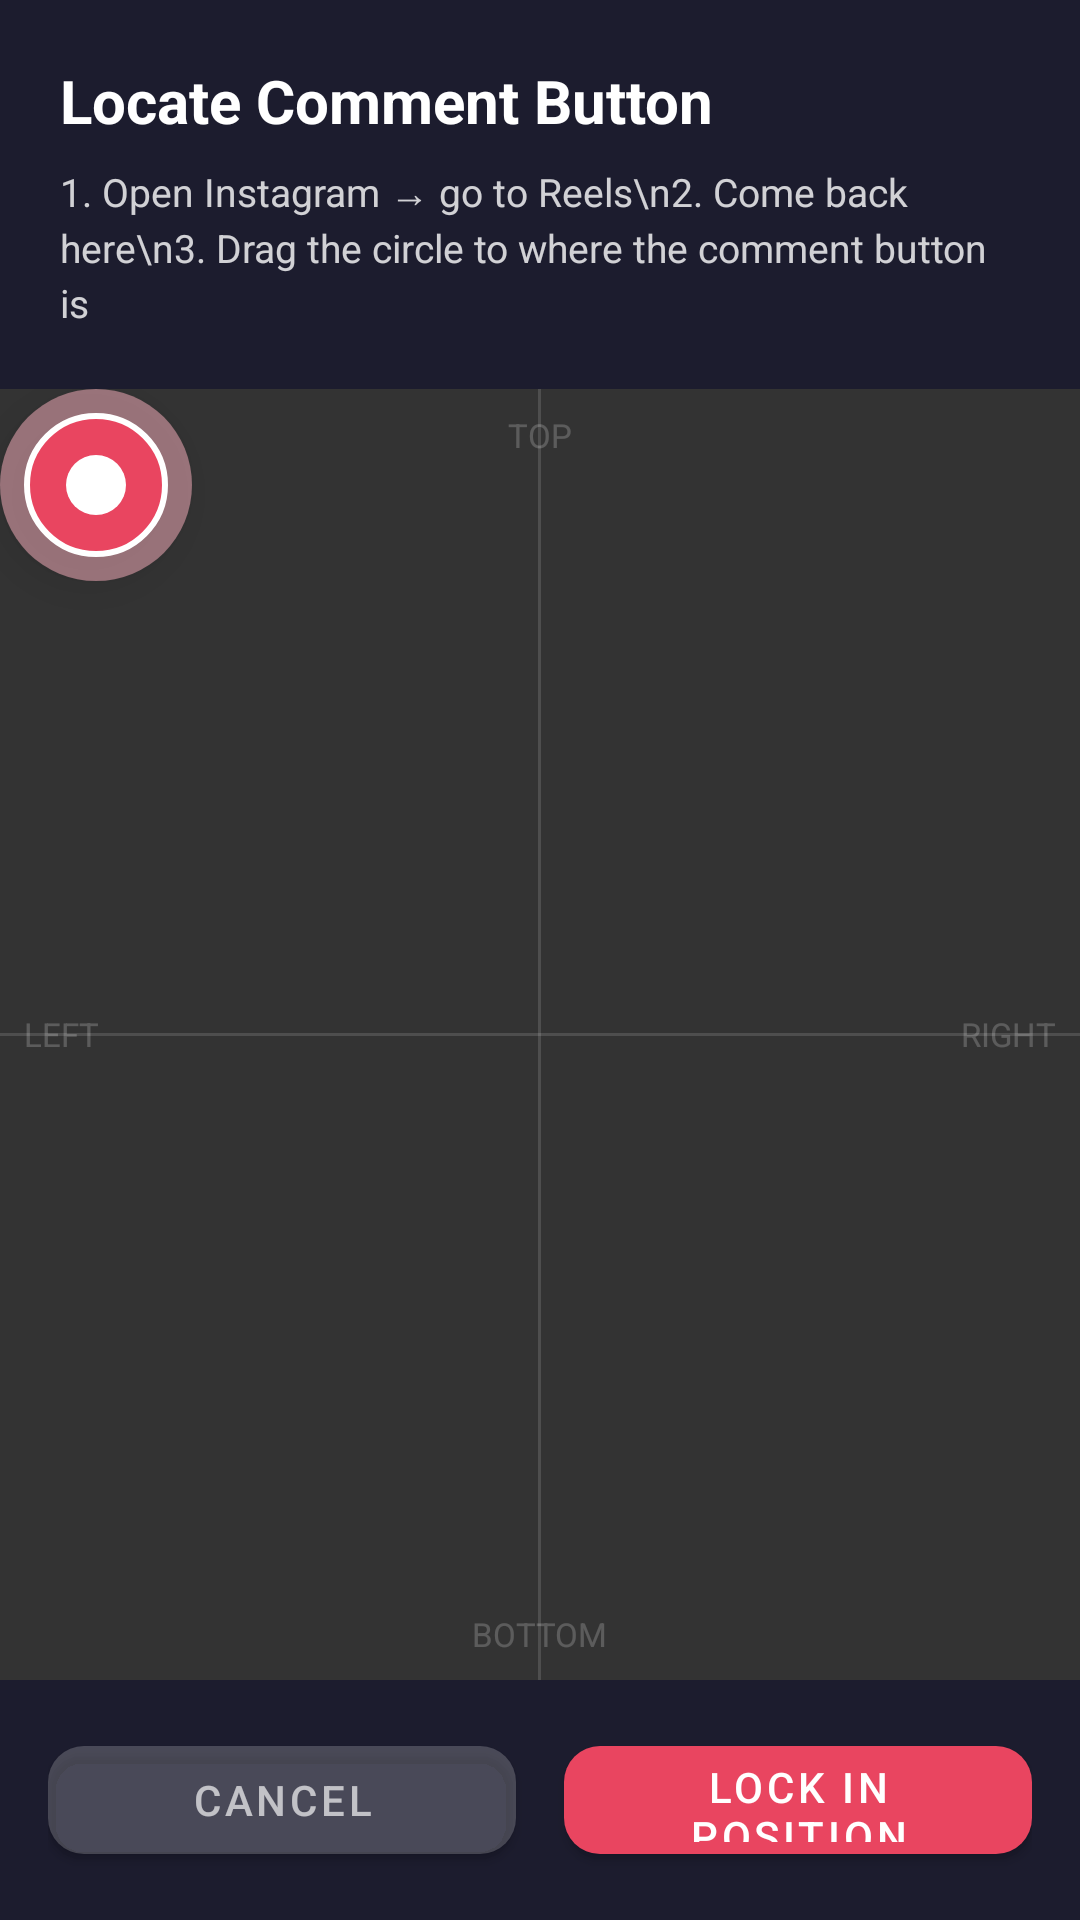

Point at icon controls on the screen. Image size 1080×1920, points as point (x, y).
calibration dot: point (96, 485)
